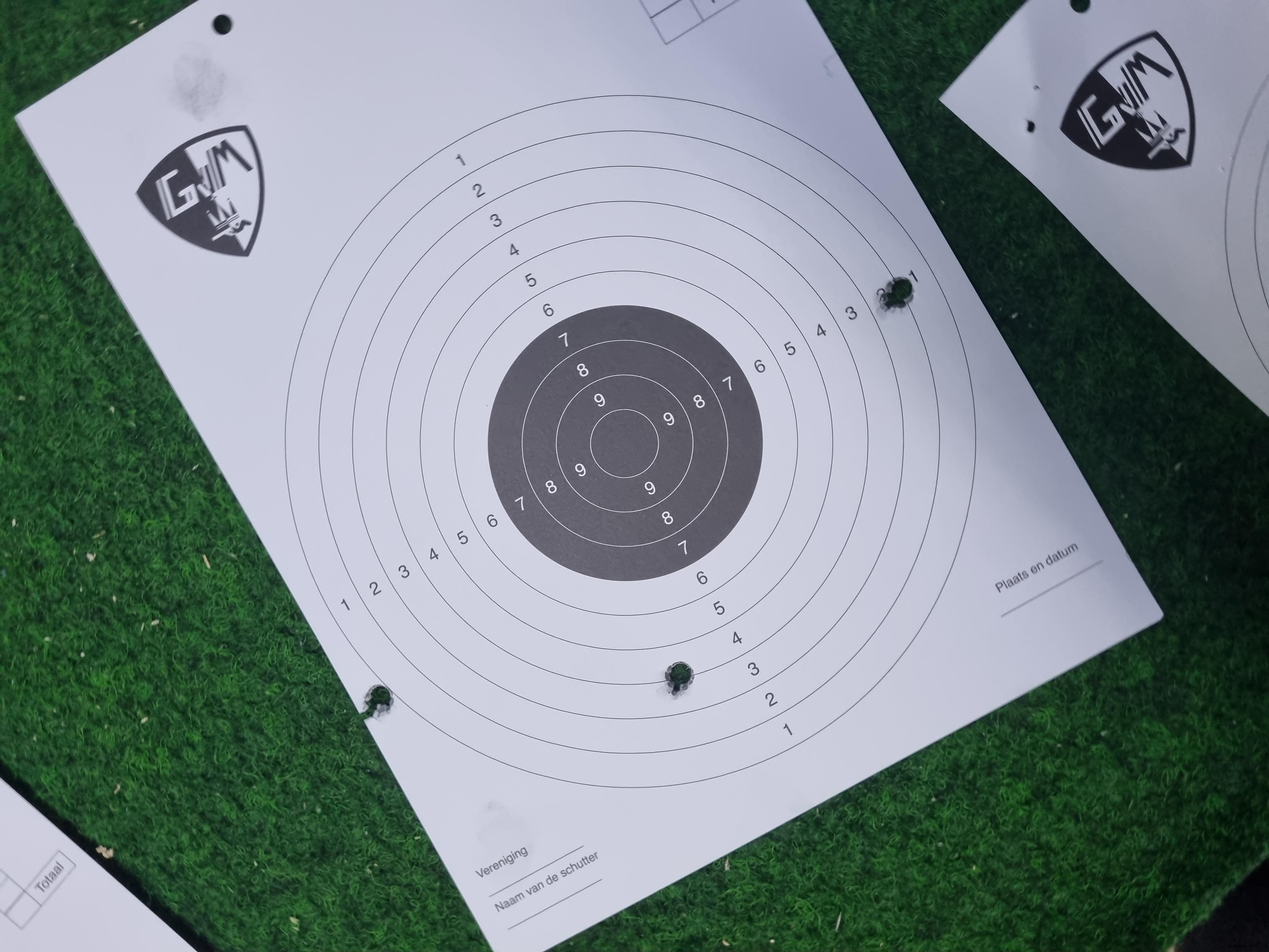hole: (854, 660, 900, 686), (312, 273, 357, 296), (341, 499, 388, 521)
